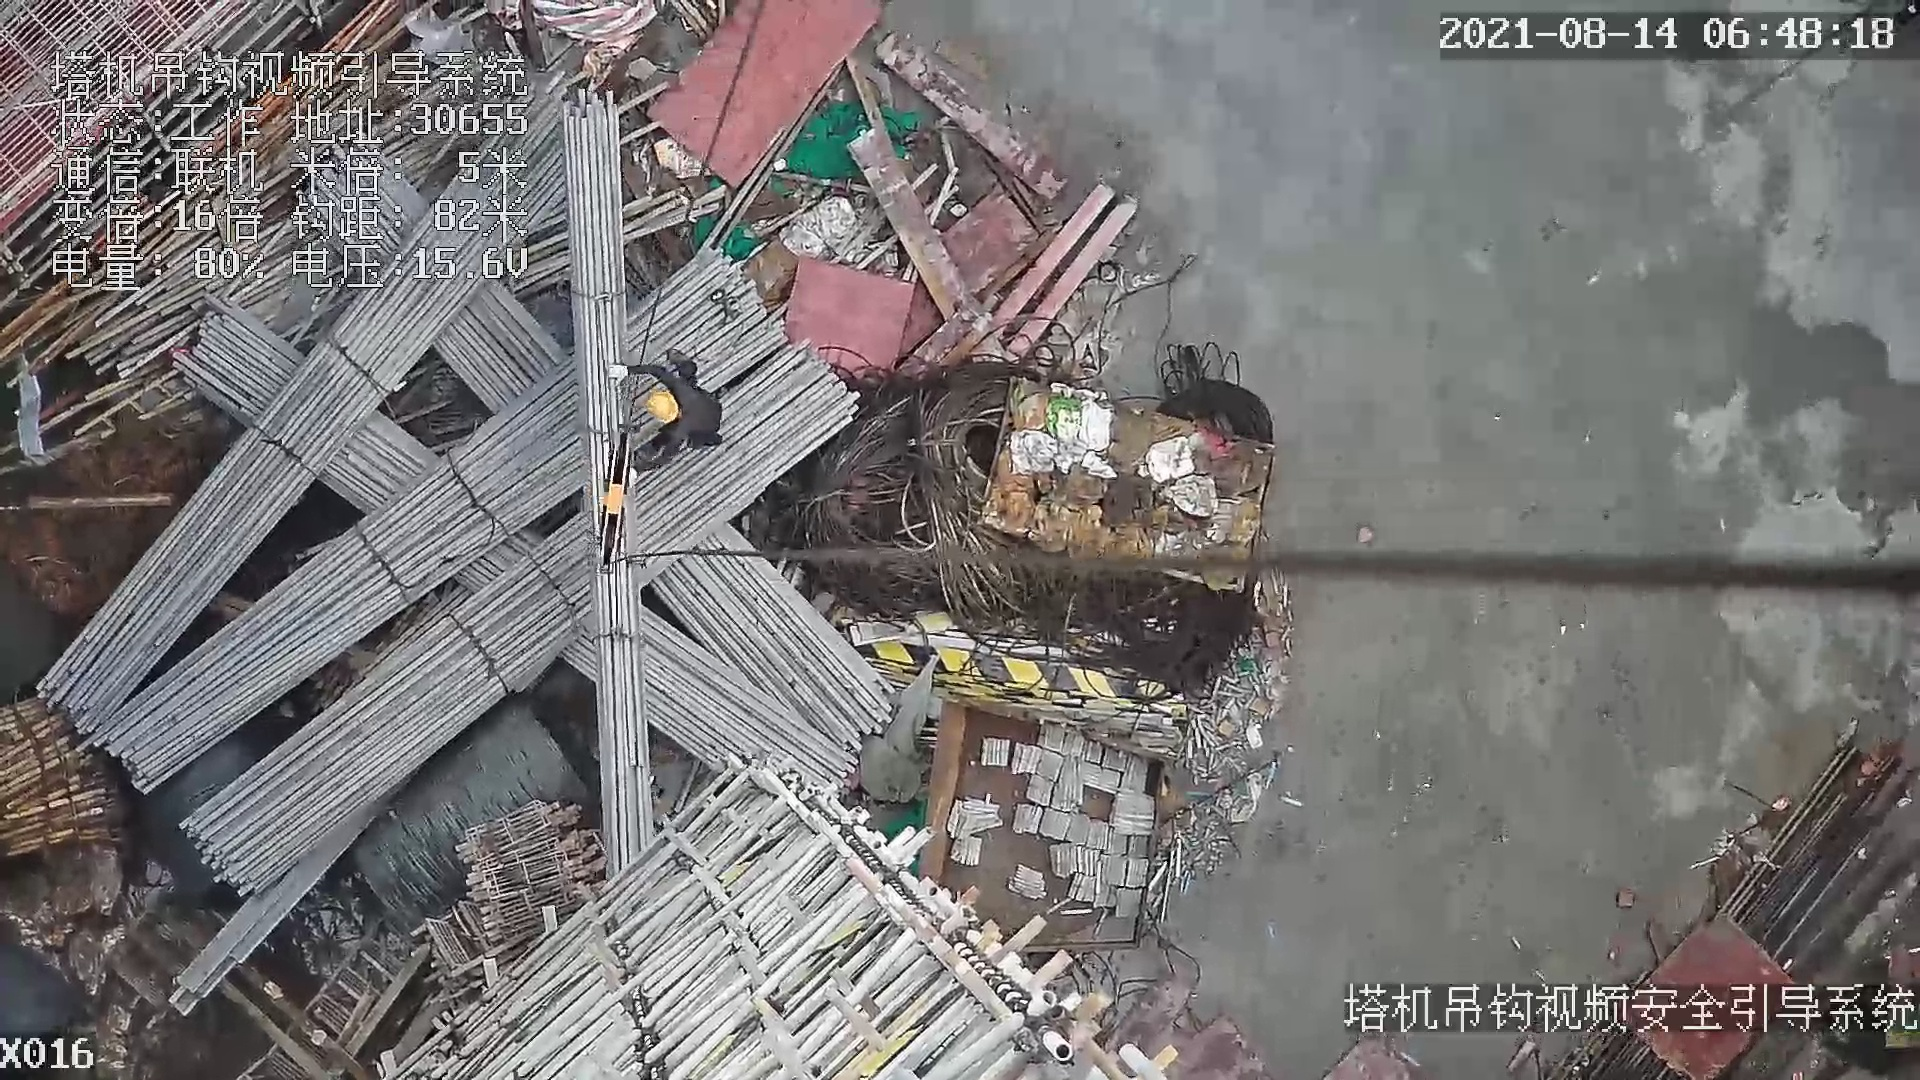board: (649, 2, 895, 195)
helmet: (644, 387, 680, 423)
hook: (591, 424, 635, 576)
person: (613, 351, 738, 468)
scaffold: (1, 696, 128, 860)
